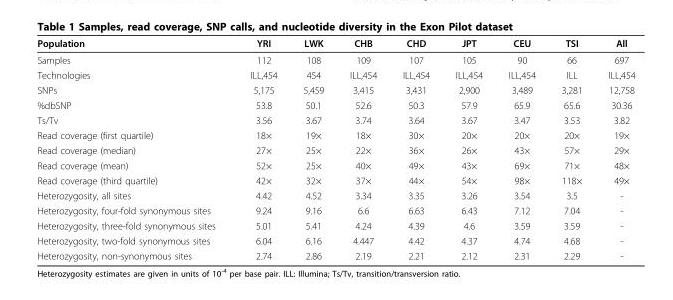table: (36, 37, 634, 261)
table column: (36, 37, 232, 261), (232, 37, 289, 261), (336, 37, 389, 261), (389, 37, 442, 261), (494, 37, 547, 261), (442, 37, 494, 261), (289, 37, 336, 261), (547, 37, 594, 261), (594, 37, 634, 261)
table column header: (36, 37, 634, 51)
table row: (36, 51, 634, 67), (36, 67, 634, 82), (36, 82, 634, 97), (36, 97, 634, 112), (36, 112, 634, 127), (36, 127, 634, 142), (36, 142, 634, 157), (36, 157, 634, 172), (36, 172, 634, 187), (36, 187, 634, 202), (36, 202, 634, 217), (36, 217, 634, 232), (36, 232, 634, 247), (36, 37, 634, 51), (36, 247, 634, 261)
